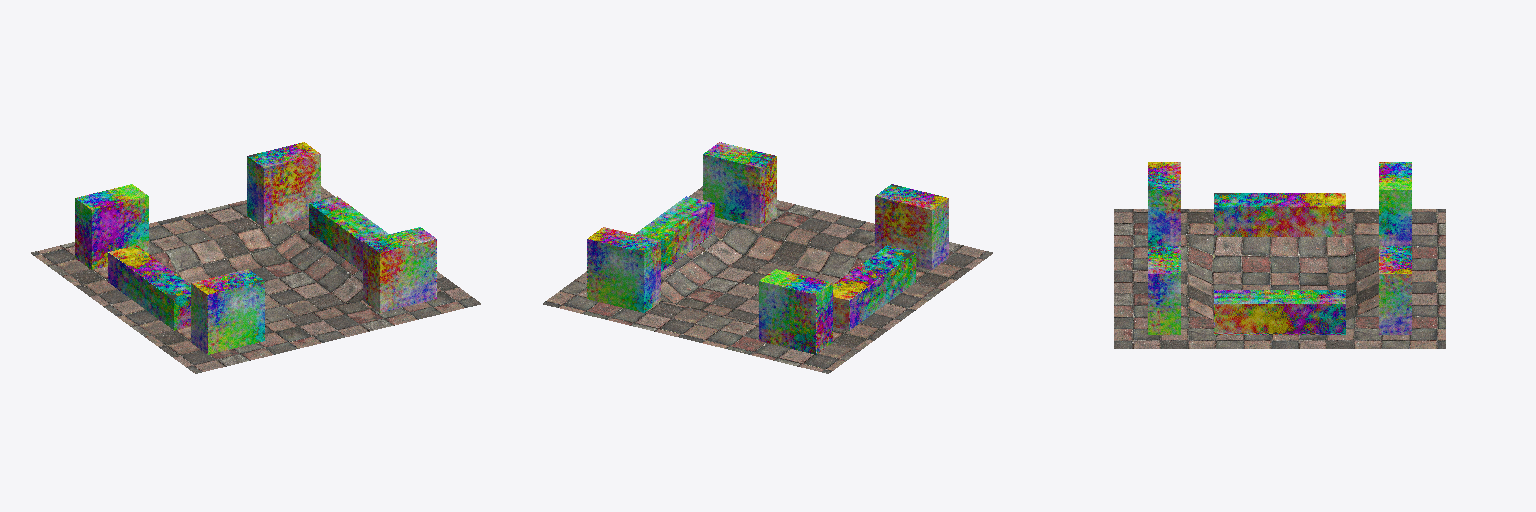
3 renders of one model, left to right at view 1: azimuth 30°, elevation 25°; view 2: azimuth 150°, elevation 25°; view 3: azimuth 270°, elevation 25°, orthographic.
Parts seen in each view (by area): view 1: environment; view 2: environment; view 3: environment.
Boxes of the visible parts, x1=… form: environment: x1=31, y1=142, x2=480, y2=373; environment: x1=543, y1=142, x2=992, y2=373; environment: x1=1114, y1=162, x2=1445, y2=348.
Bounding box in the file's own units: 10 × 2.5 × 10.
2 materials, 2 textured.